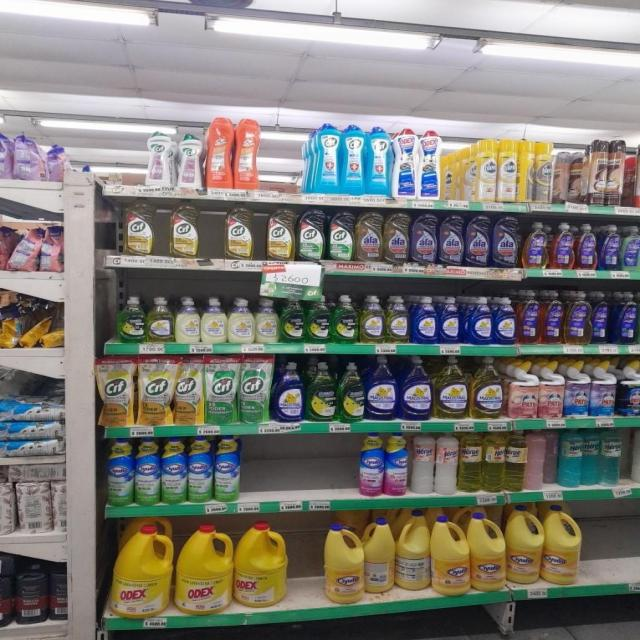ala_conc_amarillo: (383, 212, 409, 264), (356, 211, 382, 262)
ala_conc_azul: (491, 215, 520, 268), (410, 212, 437, 264), (464, 214, 490, 267), (438, 213, 464, 266)
cif_conc_bot_amarilla: (167, 199, 202, 258), (122, 198, 157, 256), (222, 203, 257, 260), (264, 206, 296, 261)
cif_conc_botella_verde: (297, 208, 325, 261), (327, 210, 354, 261)
cif_conc_sachet_amarillo: (136, 355, 173, 426), (98, 356, 134, 427), (174, 354, 204, 426)
cif_conc_sachet_verde: (205, 354, 238, 425), (238, 353, 270, 424)
heroe: (410, 432, 435, 495), (435, 431, 458, 496), (458, 431, 482, 493), (600, 427, 624, 486), (558, 428, 582, 487), (505, 430, 527, 492), (483, 431, 505, 493), (583, 428, 599, 486), (631, 426, 640, 483)
magistral_con_amarillo: (434, 356, 470, 419), (471, 356, 504, 419), (146, 296, 174, 343), (385, 295, 410, 344), (360, 294, 384, 344)
magistral_con_azul: (400, 355, 432, 421), (366, 355, 398, 421), (272, 361, 304, 422), (410, 295, 438, 344), (465, 296, 492, 345), (493, 296, 517, 345), (438, 296, 462, 344)
magistral_con_crema: (228, 297, 254, 343), (201, 297, 227, 343), (176, 296, 200, 343), (256, 298, 279, 343)
magistral_con_verde: (116, 296, 146, 343)
zorro: (612, 291, 638, 345), (565, 290, 590, 344), (522, 221, 549, 268), (541, 290, 564, 344), (550, 222, 575, 270), (518, 290, 540, 344), (590, 291, 610, 344), (576, 223, 598, 270), (621, 225, 640, 270)
